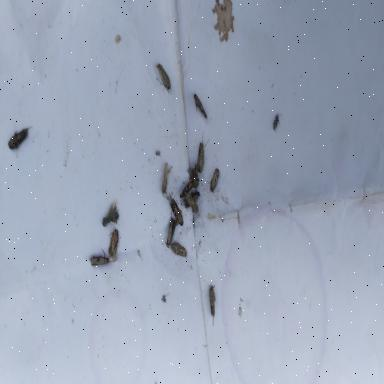pbw: (8, 126, 32, 150), (196, 134, 210, 174), (169, 193, 184, 227), (88, 248, 116, 266), (161, 162, 173, 198), (156, 63, 170, 93), (108, 224, 119, 262), (165, 216, 177, 248), (194, 94, 207, 120), (208, 285, 216, 327), (185, 192, 199, 214), (170, 242, 188, 258), (180, 179, 194, 199), (210, 168, 219, 192), (192, 164, 199, 186)
